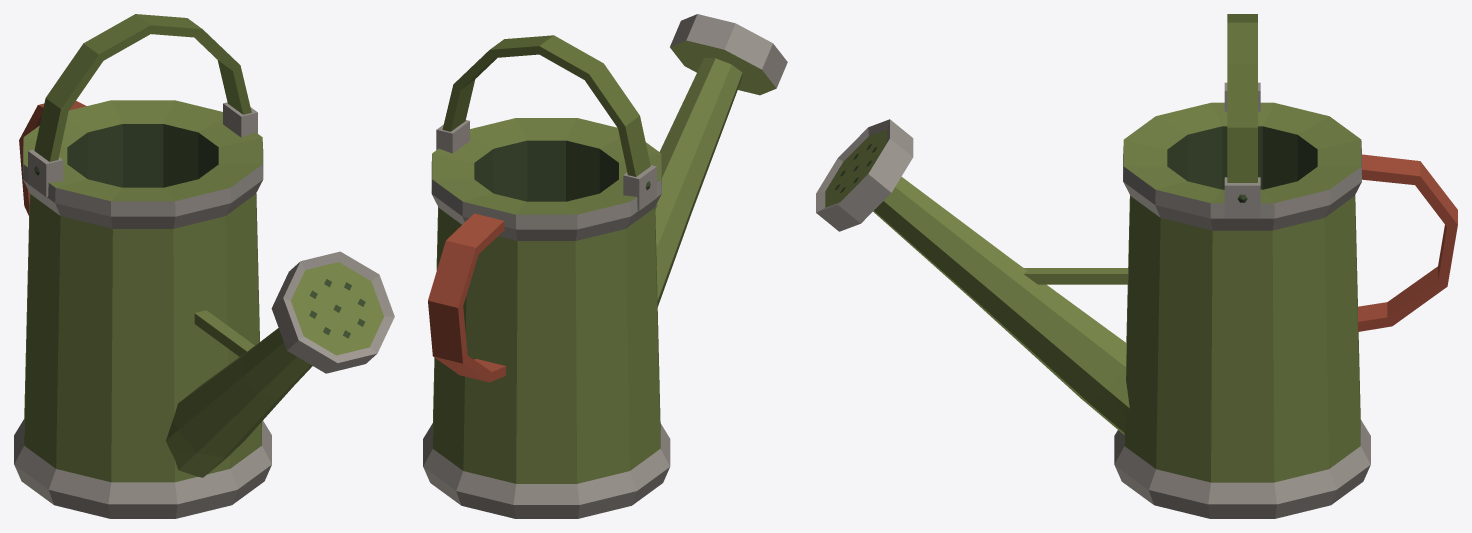
The model's file is watering-can-b22758.glb.
3 views of the same model, side by side, from view 1: azimuth 30°, elevation 25°; view 2: azimuth 150°, elevation 25°; view 3: azimuth 270°, elevation 25° (orthographic). The views are drawn at different scales.
Visible parts, largest first — view 1: can, rose-head, handle-strap; view 2: can, handle-strap, rose-head; view 3: can, rose-head, handle-strap.
Part boxes in pixels (<box>): can: <box>14,100,312,518</box>; rose-head: <box>271,251,394,373</box>; handle-strap: <box>34,14,251,161</box>; can: <box>423,57,742,518</box>; handle-strap: <box>442,35,650,176</box>; rose-head: <box>670,14,787,95</box>; can: <box>873,82,1457,518</box>; rose-head: <box>816,119,913,231</box>; handle-strap: <box>1227,14,1257,182</box>.
Bounding box in the file's own units: 0.1845 × 0.3535 × 0.4618.
